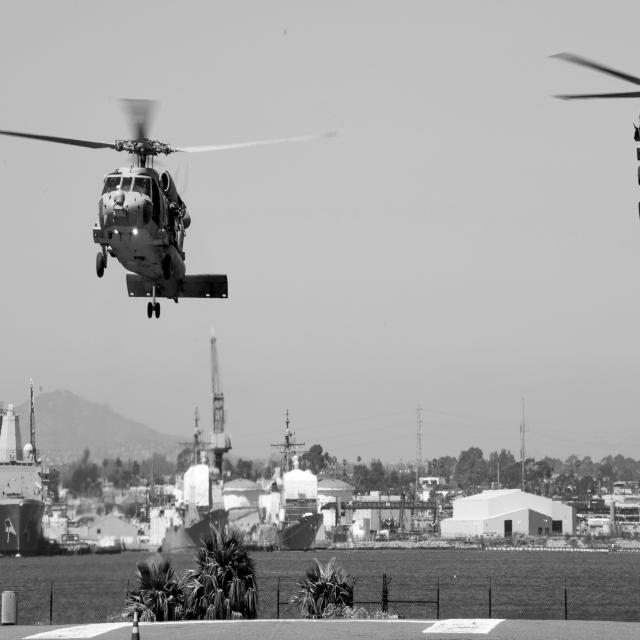helicopter: (1, 57, 357, 333), (537, 32, 640, 238)
